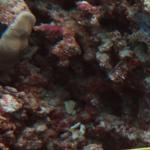dead: (3, 2, 147, 146)
